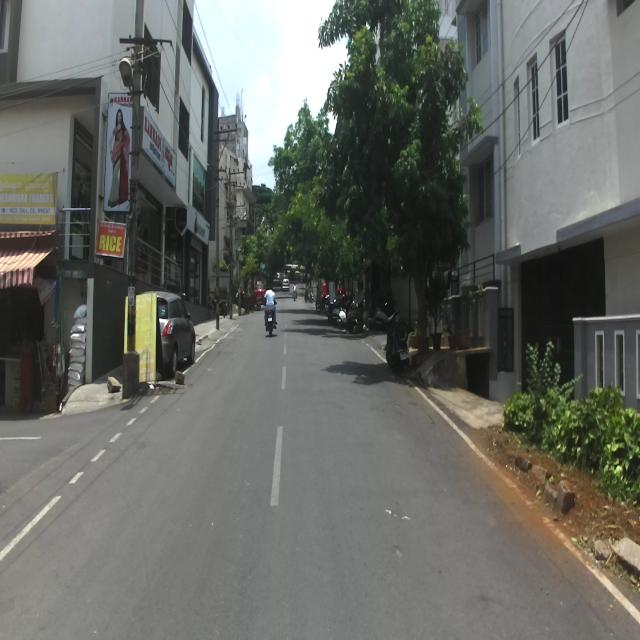car ahead at: (161, 289, 201, 376)
electric pole ahead at: (116, 0, 159, 401)
